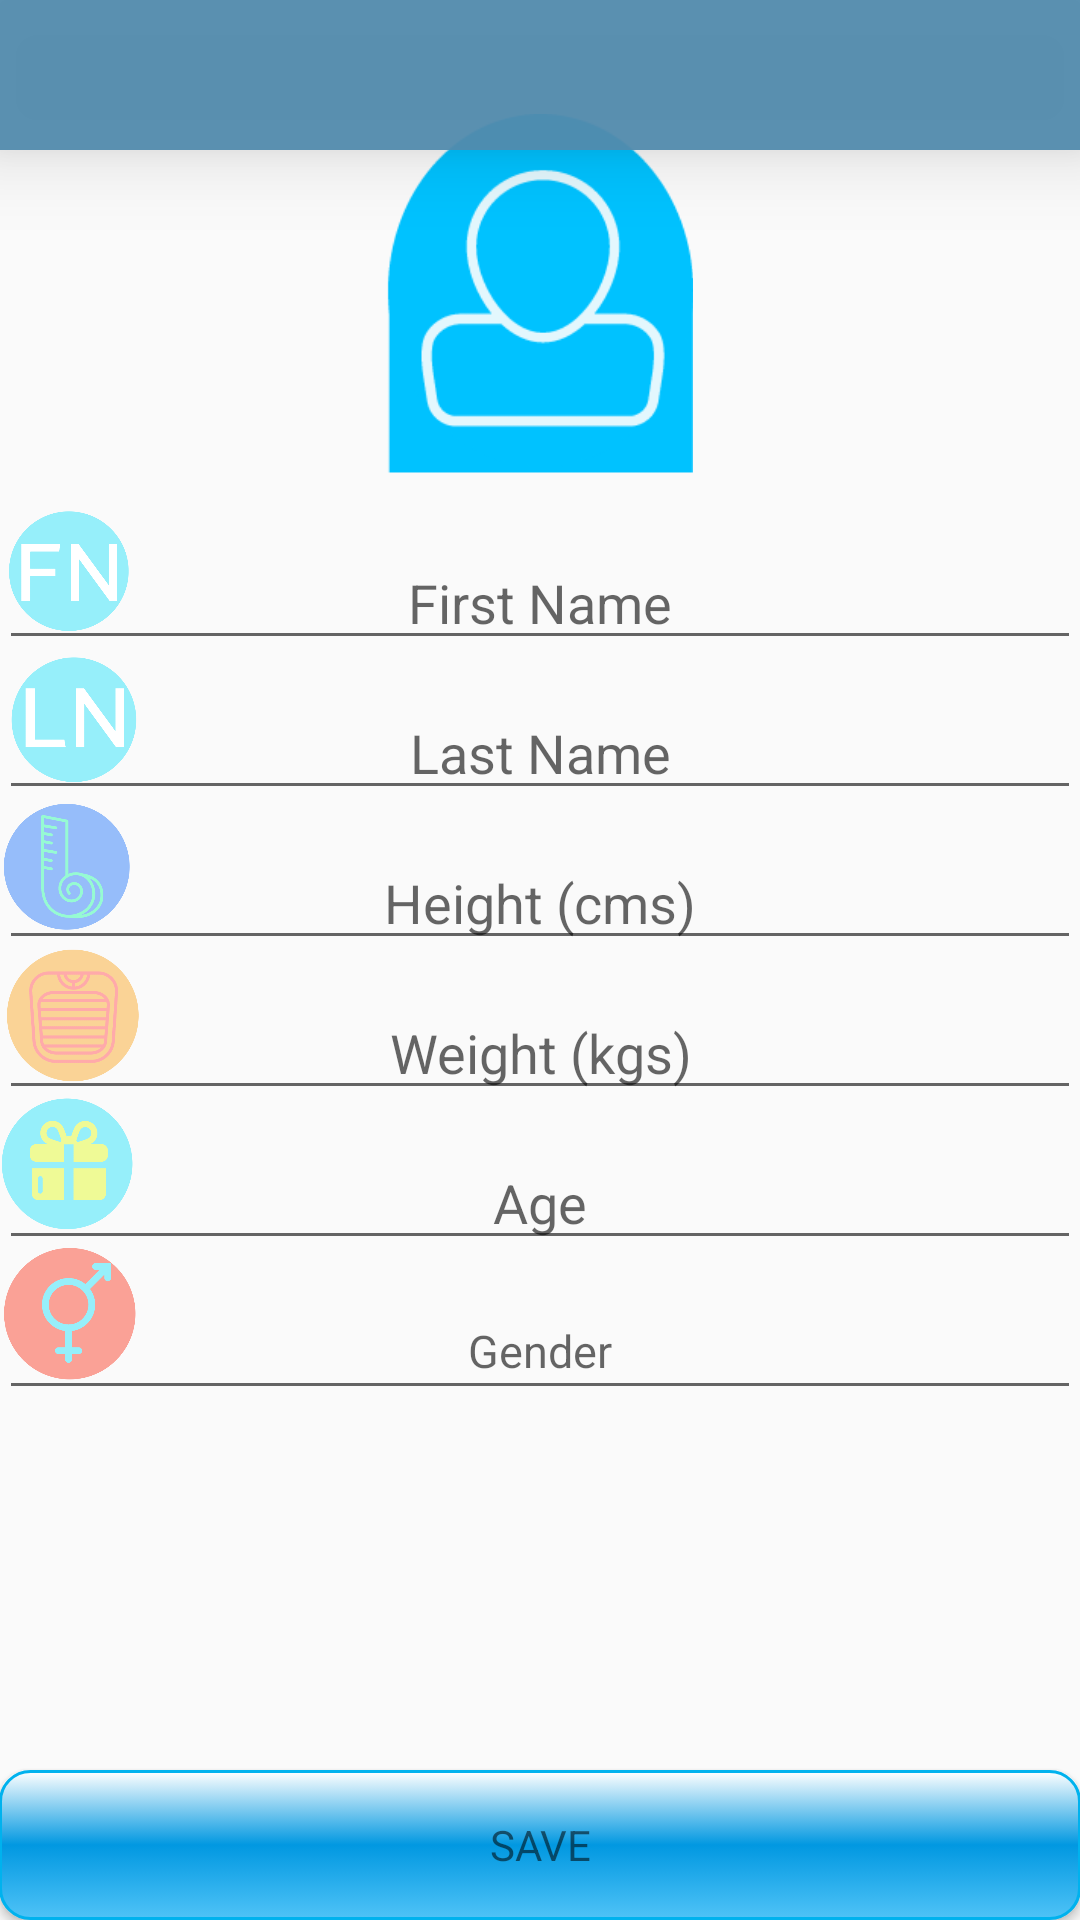

Icon bounding boxes for this 1080*1920 phone screenshot, format (x1, y1, x2, y2):
birthday: (2, 1098, 133, 1229)
measure: (4, 804, 130, 930)
